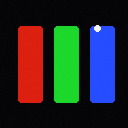0 point: (94, 25, 100, 31)
